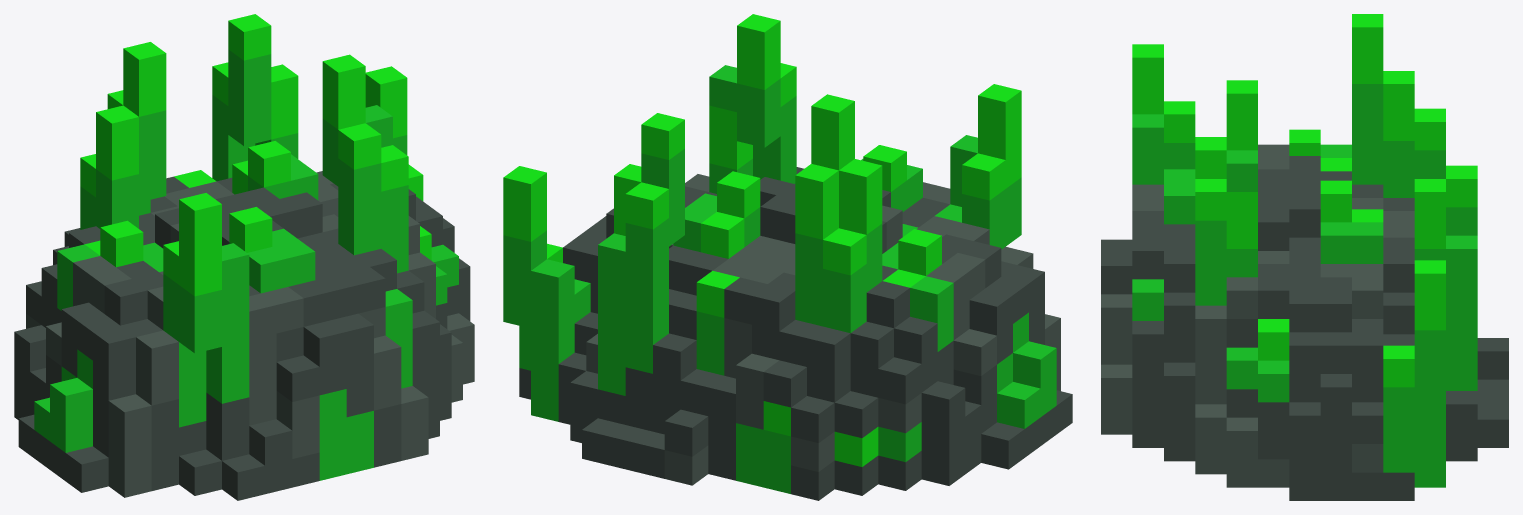
File: EmeraldDeposit_L.obj
The picture shows the model from 3 angles, left to right: view 1: azimuth 30°, elevation 25°; view 2: azimuth 150°, elevation 25°; view 3: azimuth 270°, elevation 25°; orthographic projection.
Parts seen in each view (by area): view 1: EmeraldDeposit_L; view 2: EmeraldDeposit_L; view 3: EmeraldDeposit_L.
Part boxes in pixels (x1,y1,x2,y2): EmeraldDeposit_L: [14, 14, 474, 500]; EmeraldDeposit_L: [503, 14, 1072, 500]; EmeraldDeposit_L: [1101, 14, 1508, 500].
Size of the model in its own units: 1.6 by 1.2 by 1.3.
1 material, 1 textured.
